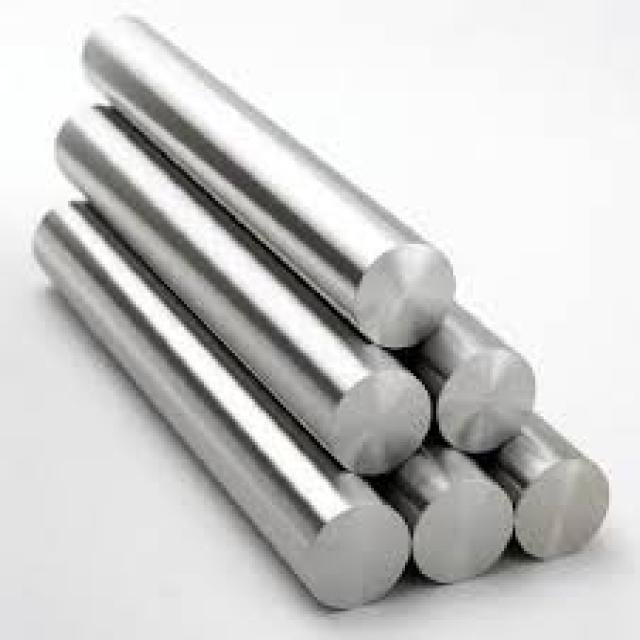Dry Waste: (111, 29, 528, 629)
